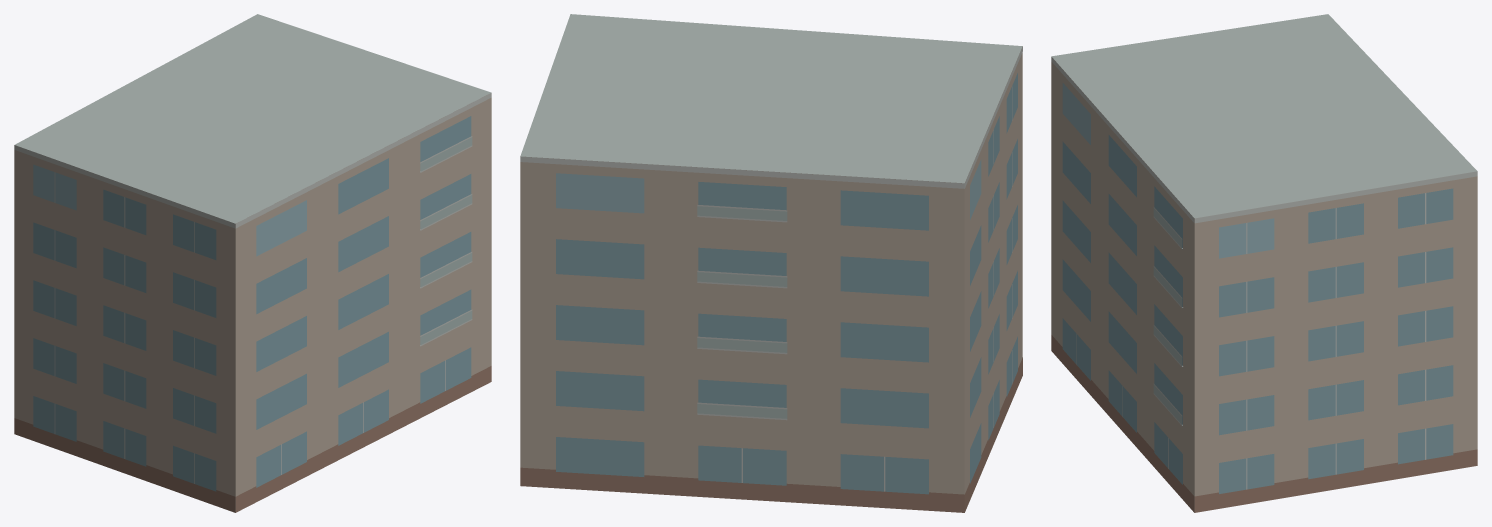
Rendered from survey-upis-32843948.glb.
3 renders of one model, left to right at view 1: azimuth 30°, elevation 25°; view 2: azimuth 150°, elevation 25°; view 3: azimuth 270°, elevation 25°, orthographic. The views are drawn at different scales.
Visible parts, largest first — view 1: survey-upis-32843948.tmp; view 2: survey-upis-32843948.tmp; view 3: survey-upis-32843948.tmp.
Boxes of the visible parts, <box> form: survey-upis-32843948.tmp: <box>14,14,491,512</box>; survey-upis-32843948.tmp: <box>520,14,1022,512</box>; survey-upis-32843948.tmp: <box>1051,14,1477,512</box>.
Size of the model in its own units: 21.45 by 14.4 by 18.91.
